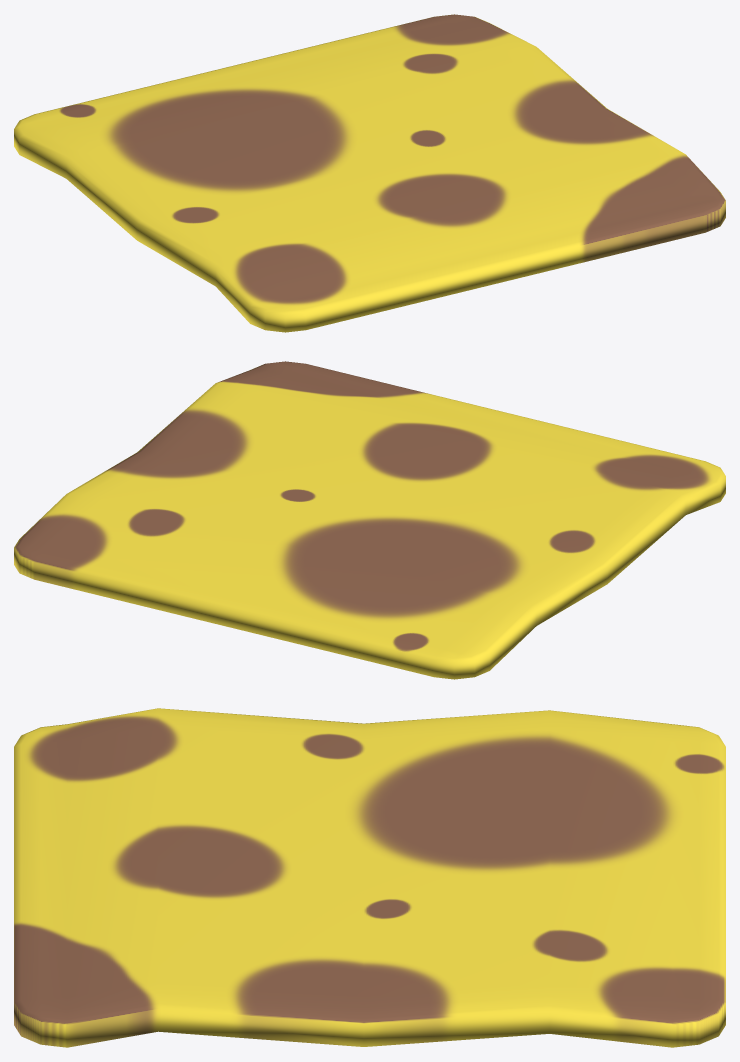
The model's file is new Cheese.fbx.
3 views of the same model, one above another, from view 1: azimuth 30°, elevation 25°; view 2: azimuth 150°, elevation 25°; view 3: azimuth 270°, elevation 25° (orthographic). The views are drawn at different scales.
Visible parts, largest first — view 1: Cube; view 2: Cube; view 3: Cube.
Boxes of the visible parts, x1=… form: Cube: x1=14, y1=14, x2=725, y2=332; Cube: x1=14, y1=361, x2=725, y2=679; Cube: x1=14, y1=708, x2=725, y2=1047.
Size of the model in its own units: 200 by 14.94 by 200.
